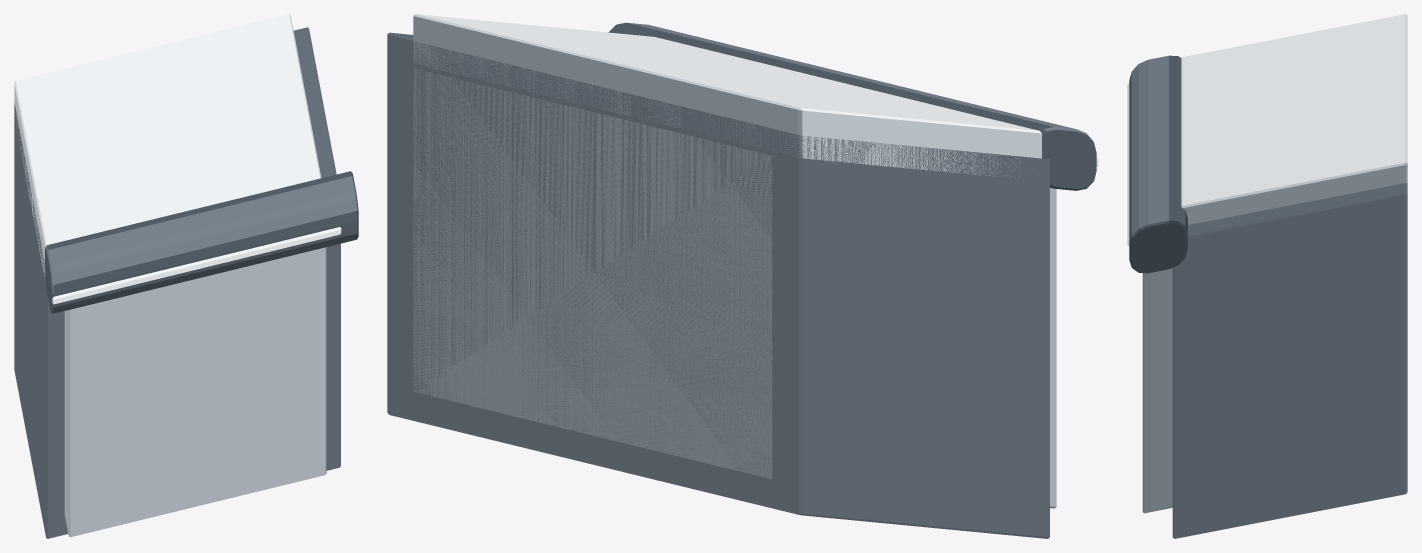
The model's file is Terrain_TopRun1R.gltf.
3 views of the same model, side by side, from view 1: azimuth 30°, elevation 25°; view 2: azimuth 150°, elevation 25°; view 3: azimuth 270°, elevation 25° (orthographic). The views are drawn at different scales.
Visible parts, largest first — view 1: Terrain_TopRun1R_baked; view 2: Terrain_TopRun1R_baked; view 3: Terrain_TopRun1R_baked.
Boxes of the visible parts, box(x1,y1,x2,y2) form: Terrain_TopRun1R_baked: box(14, 14, 358, 538); Terrain_TopRun1R_baked: box(387, 14, 1098, 538); Terrain_TopRun1R_baked: box(1127, 14, 1407, 538).
Bounding box in the file's own units: 1.29 × 1.18 × 0.74.
